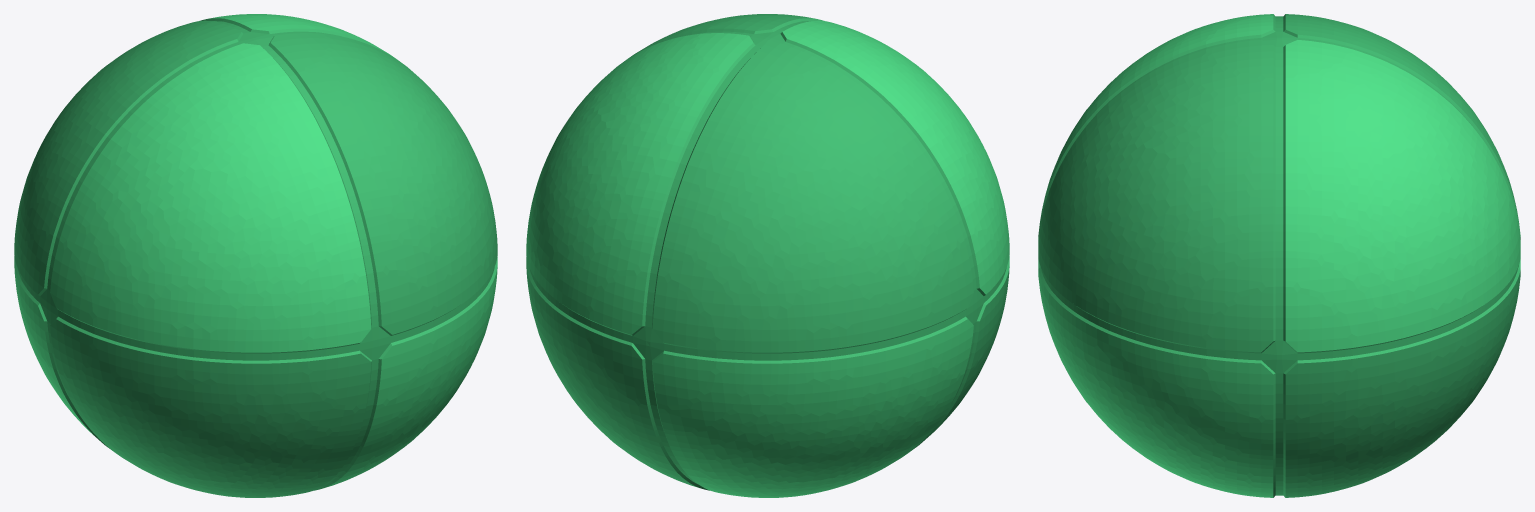
File: ballbody.glb
3 renders of one model, left to right at view 1: azimuth 30°, elevation 25°; view 2: azimuth 150°, elevation 25°; view 3: azimuth 270°, elevation 25°, orthographic.
Visible parts, largest first — view 1: Sphere.001; view 2: Sphere.001; view 3: Sphere.001.
Boxes of the visible parts, x1=… form: Sphere.001: x1=14, y1=14, x2=497, y2=497; Sphere.001: x1=526, y1=14, x2=1009, y2=497; Sphere.001: x1=1038, y1=14, x2=1520, y2=497.
Size of the model in its own units: 1.99 by 1.99 by 1.99.
